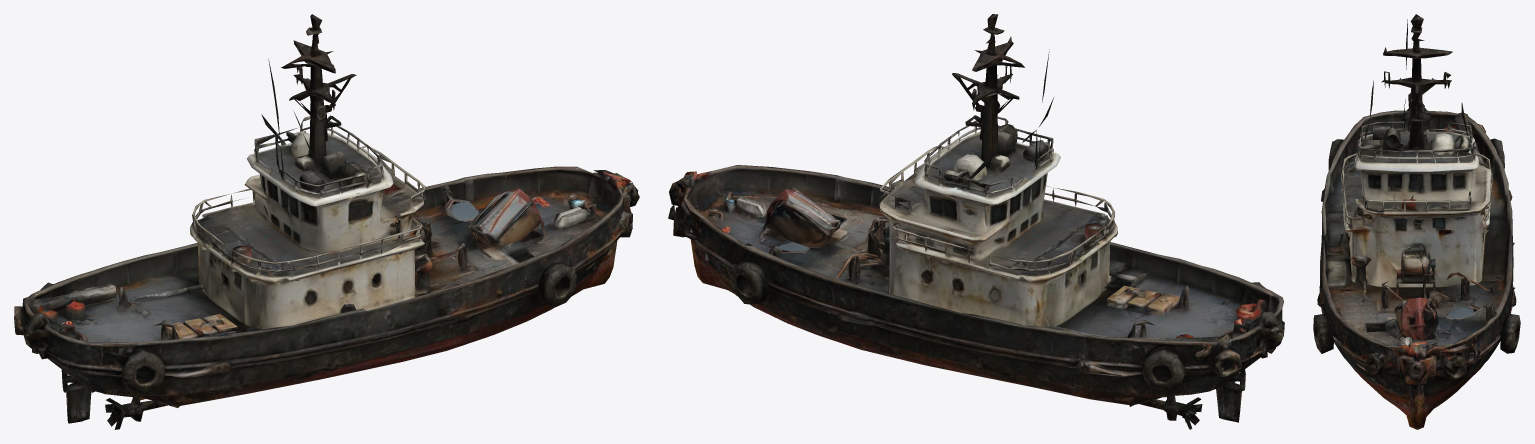
Rendered from pt_tug.glb.
The picture shows the model from 3 angles, left to right: view 1: azimuth 30°, elevation 25°; view 2: azimuth 150°, elevation 25°; view 3: azimuth 270°, elevation 25°; orthographic projection. The views are drawn at different scales.
Parts seen in each view (by area): view 1: tripo_node_93fc77a0-d5eb-4d11-b75c-808bc409684d; view 2: tripo_node_93fc77a0-d5eb-4d11-b75c-808bc409684d; view 3: tripo_node_93fc77a0-d5eb-4d11-b75c-808bc409684d.
Part boxes in pixels (bbox=[...]): tripo_node_93fc77a0-d5eb-4d11-b75c-808bc409684d: bbox=[14, 14, 639, 429]; tripo_node_93fc77a0-d5eb-4d11-b75c-808bc409684d: bbox=[668, 14, 1284, 429]; tripo_node_93fc77a0-d5eb-4d11-b75c-808bc409684d: bbox=[1313, 14, 1520, 429].
Size of the model in its own units: 0.9838 by 0.5354 by 0.3341.
Materials: 1 (1 with a texture image).
